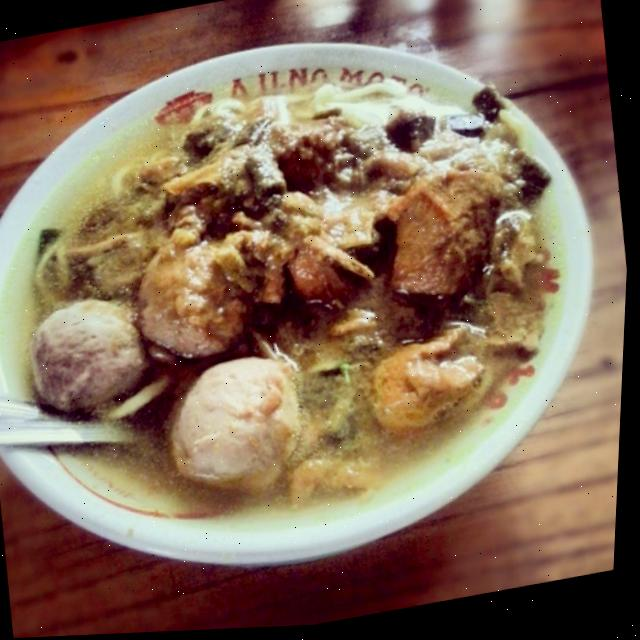面条主食: (0, 0, 640, 630)
